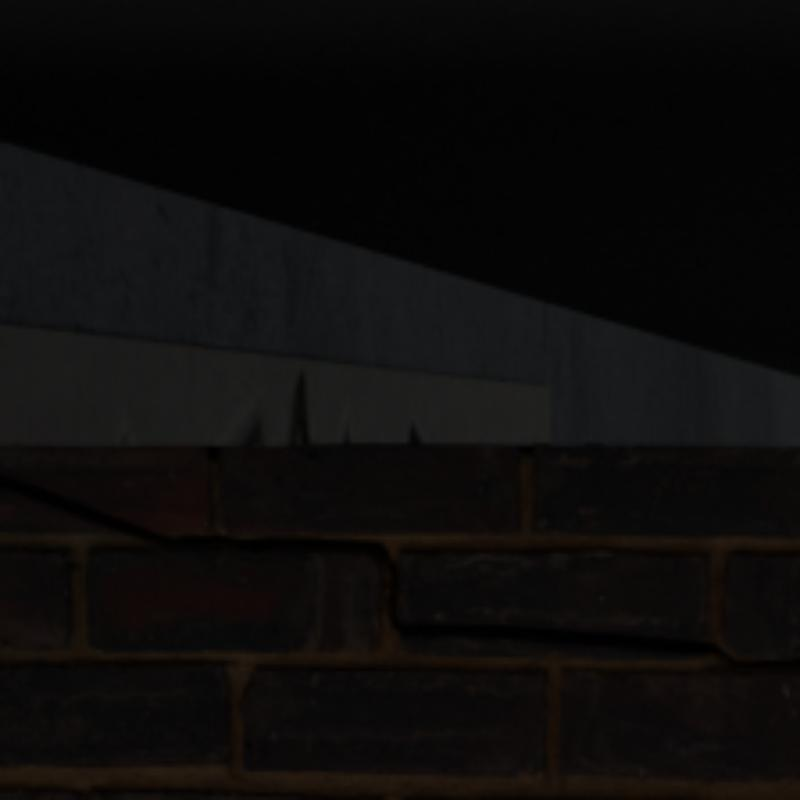pothole: (0, 475, 796, 668)
